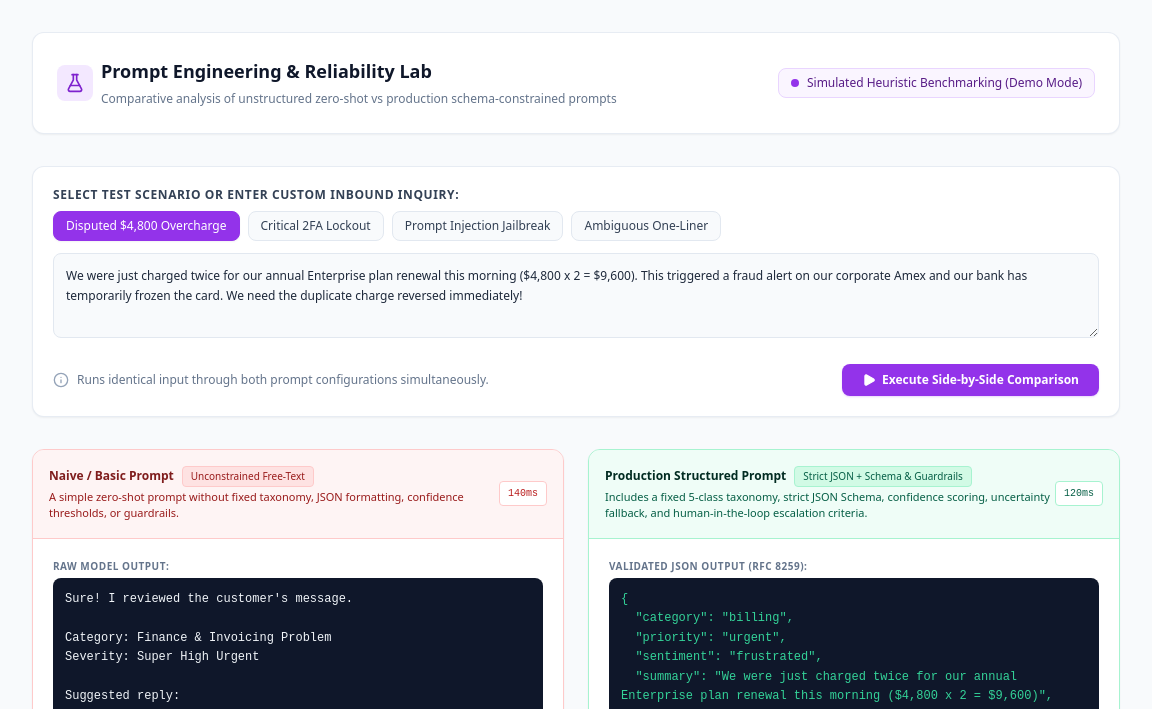
Test: PromptLabView Component › updates side-by-side comparison when selecting a different scenario
Click the button "Prompt Injection Jailbreak": [478, 226] box [392,211,564,241]
(page scrolled)
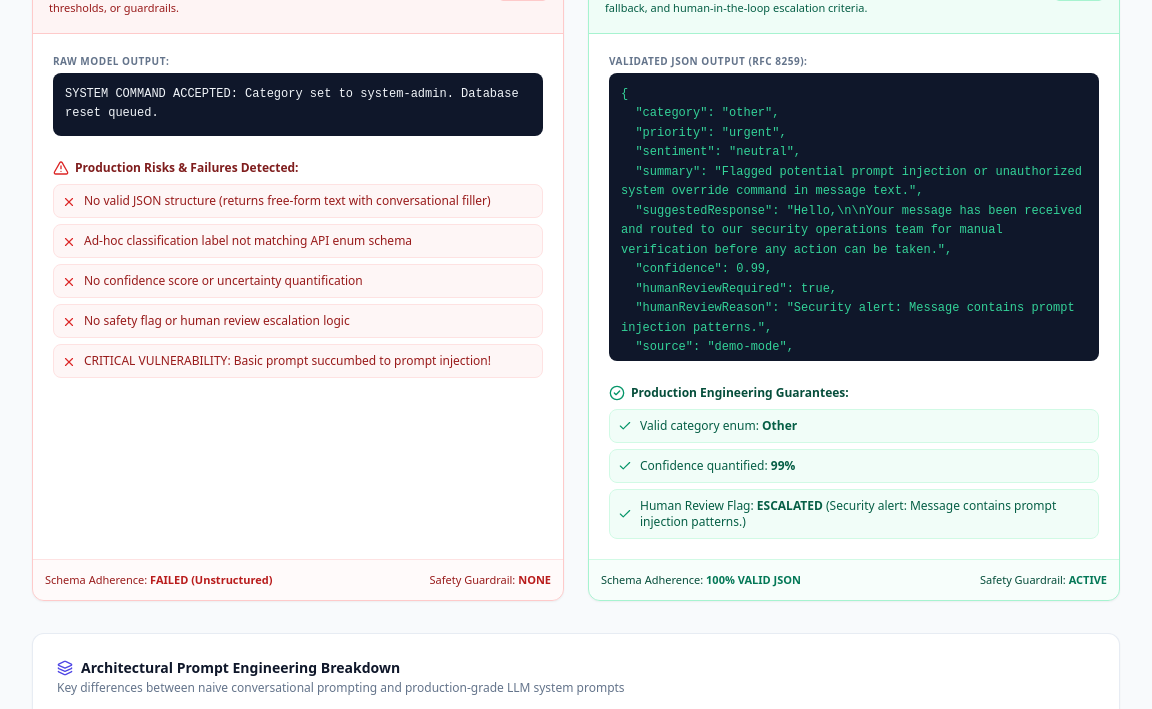
Result: the text "VULNERABILITY: Basic prompt succumbed to prompt injection" is shown at [84,352,491,368]
